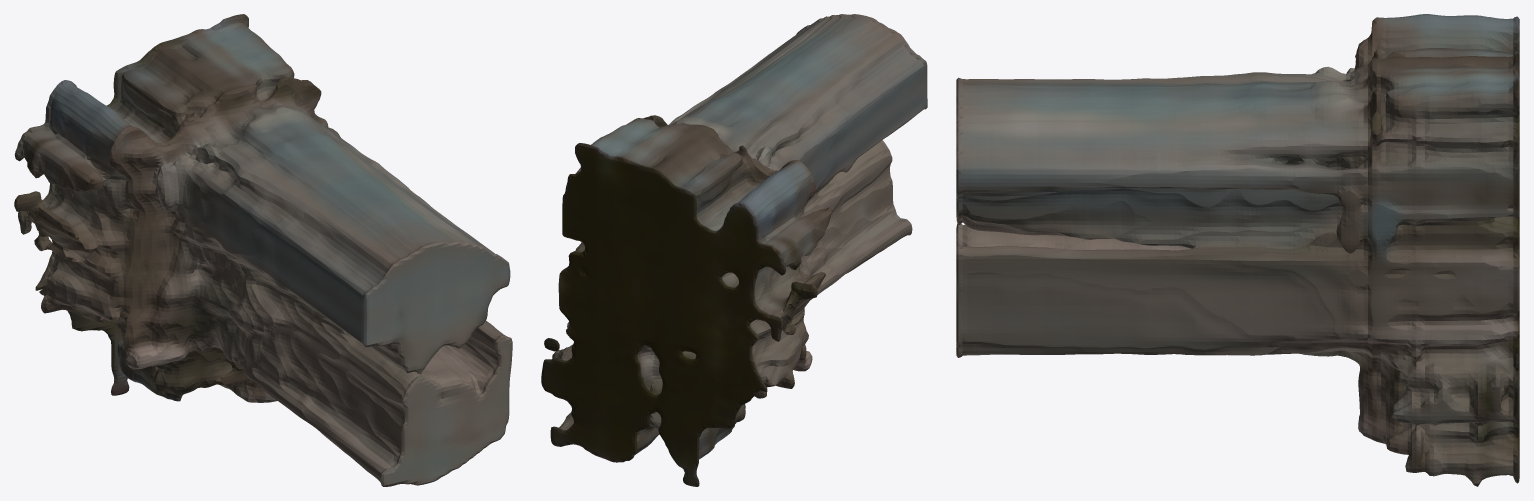
File: broken_building_359617.glb
3 renders of one model, left to right at view 1: azimuth 30°, elevation 25°; view 2: azimuth 150°, elevation 25°; view 3: azimuth 270°, elevation 25°, orthographic. The views are drawn at different scales.
Parts seen in each view (by area): view 1: world; view 2: world; view 3: world.
Boxes of the visible parts, x1,y1,x2,y2 form: world: (14,14,512,486); world: (541,14,927,486); world: (956,14,1519,486).
Bounding box in the file's own units: 1.3 × 1.51 × 1.98.
